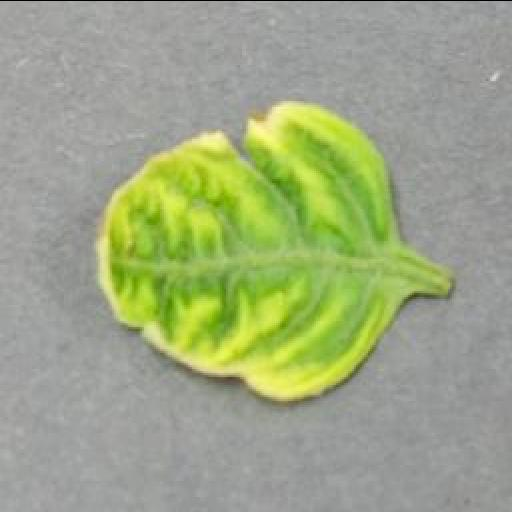disease_tomato: (92, 102, 402, 400)
